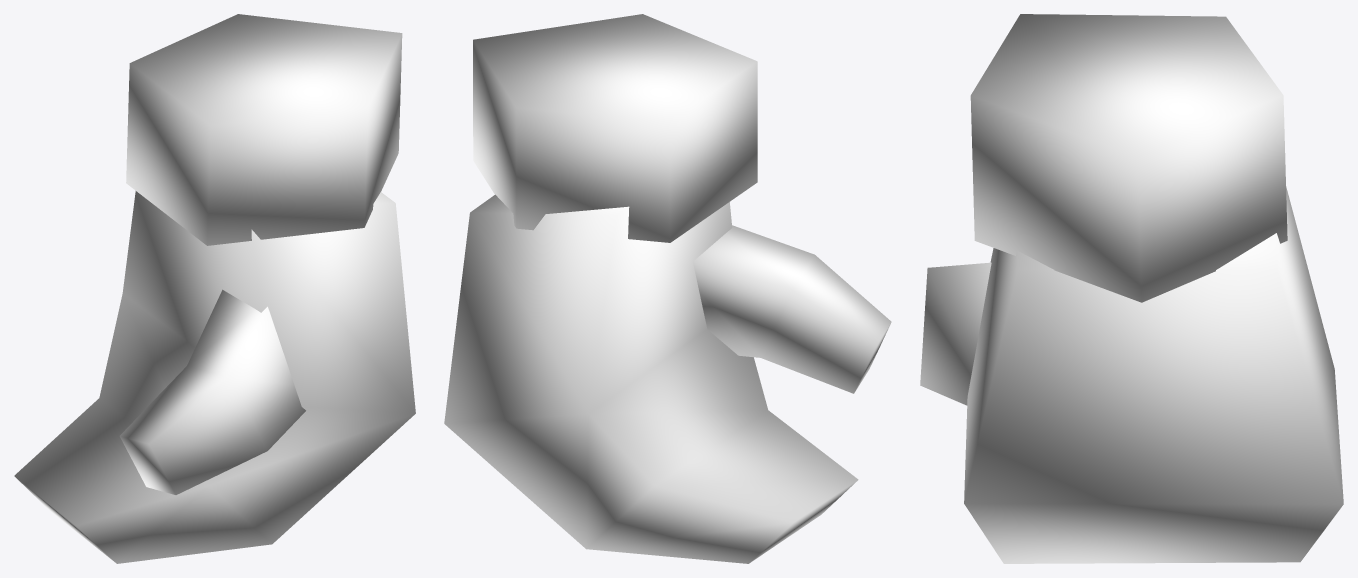
The model's file is HandL.obj.
The picture shows the model from 3 angles, left to right: view 1: azimuth 30°, elevation 25°; view 2: azimuth 150°, elevation 25°; view 3: azimuth 270°, elevation 25°; orthographic projection. The views are drawn at different scales.
Size of the model in its own units: 1.26 by 1.44 by 1.06.
1 material, 1 textured.
